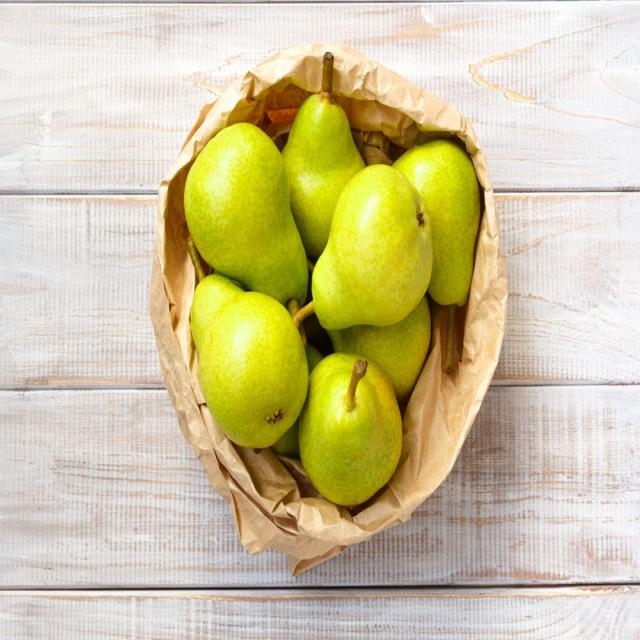pera: (180, 115, 314, 329), (178, 273, 320, 459)
